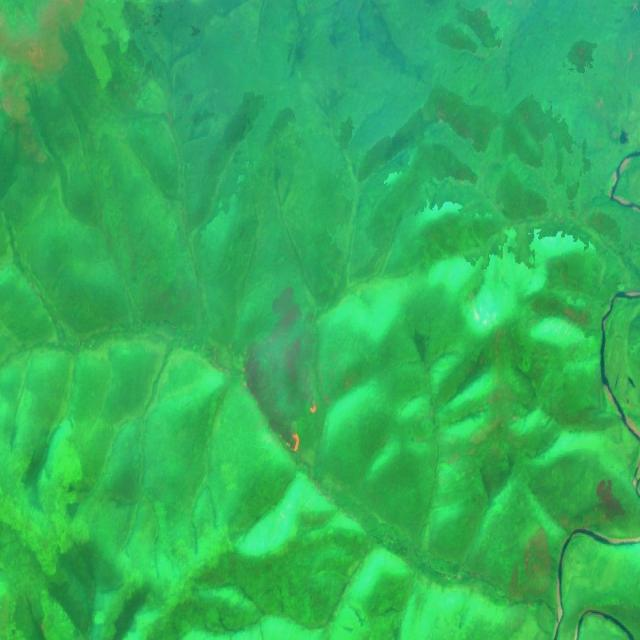fire: (278, 400, 320, 456)
